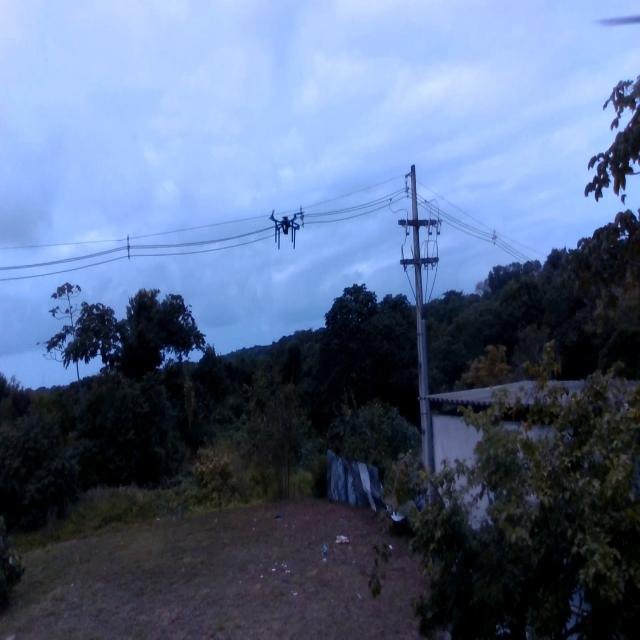-uav-: (262, 194, 311, 259)
